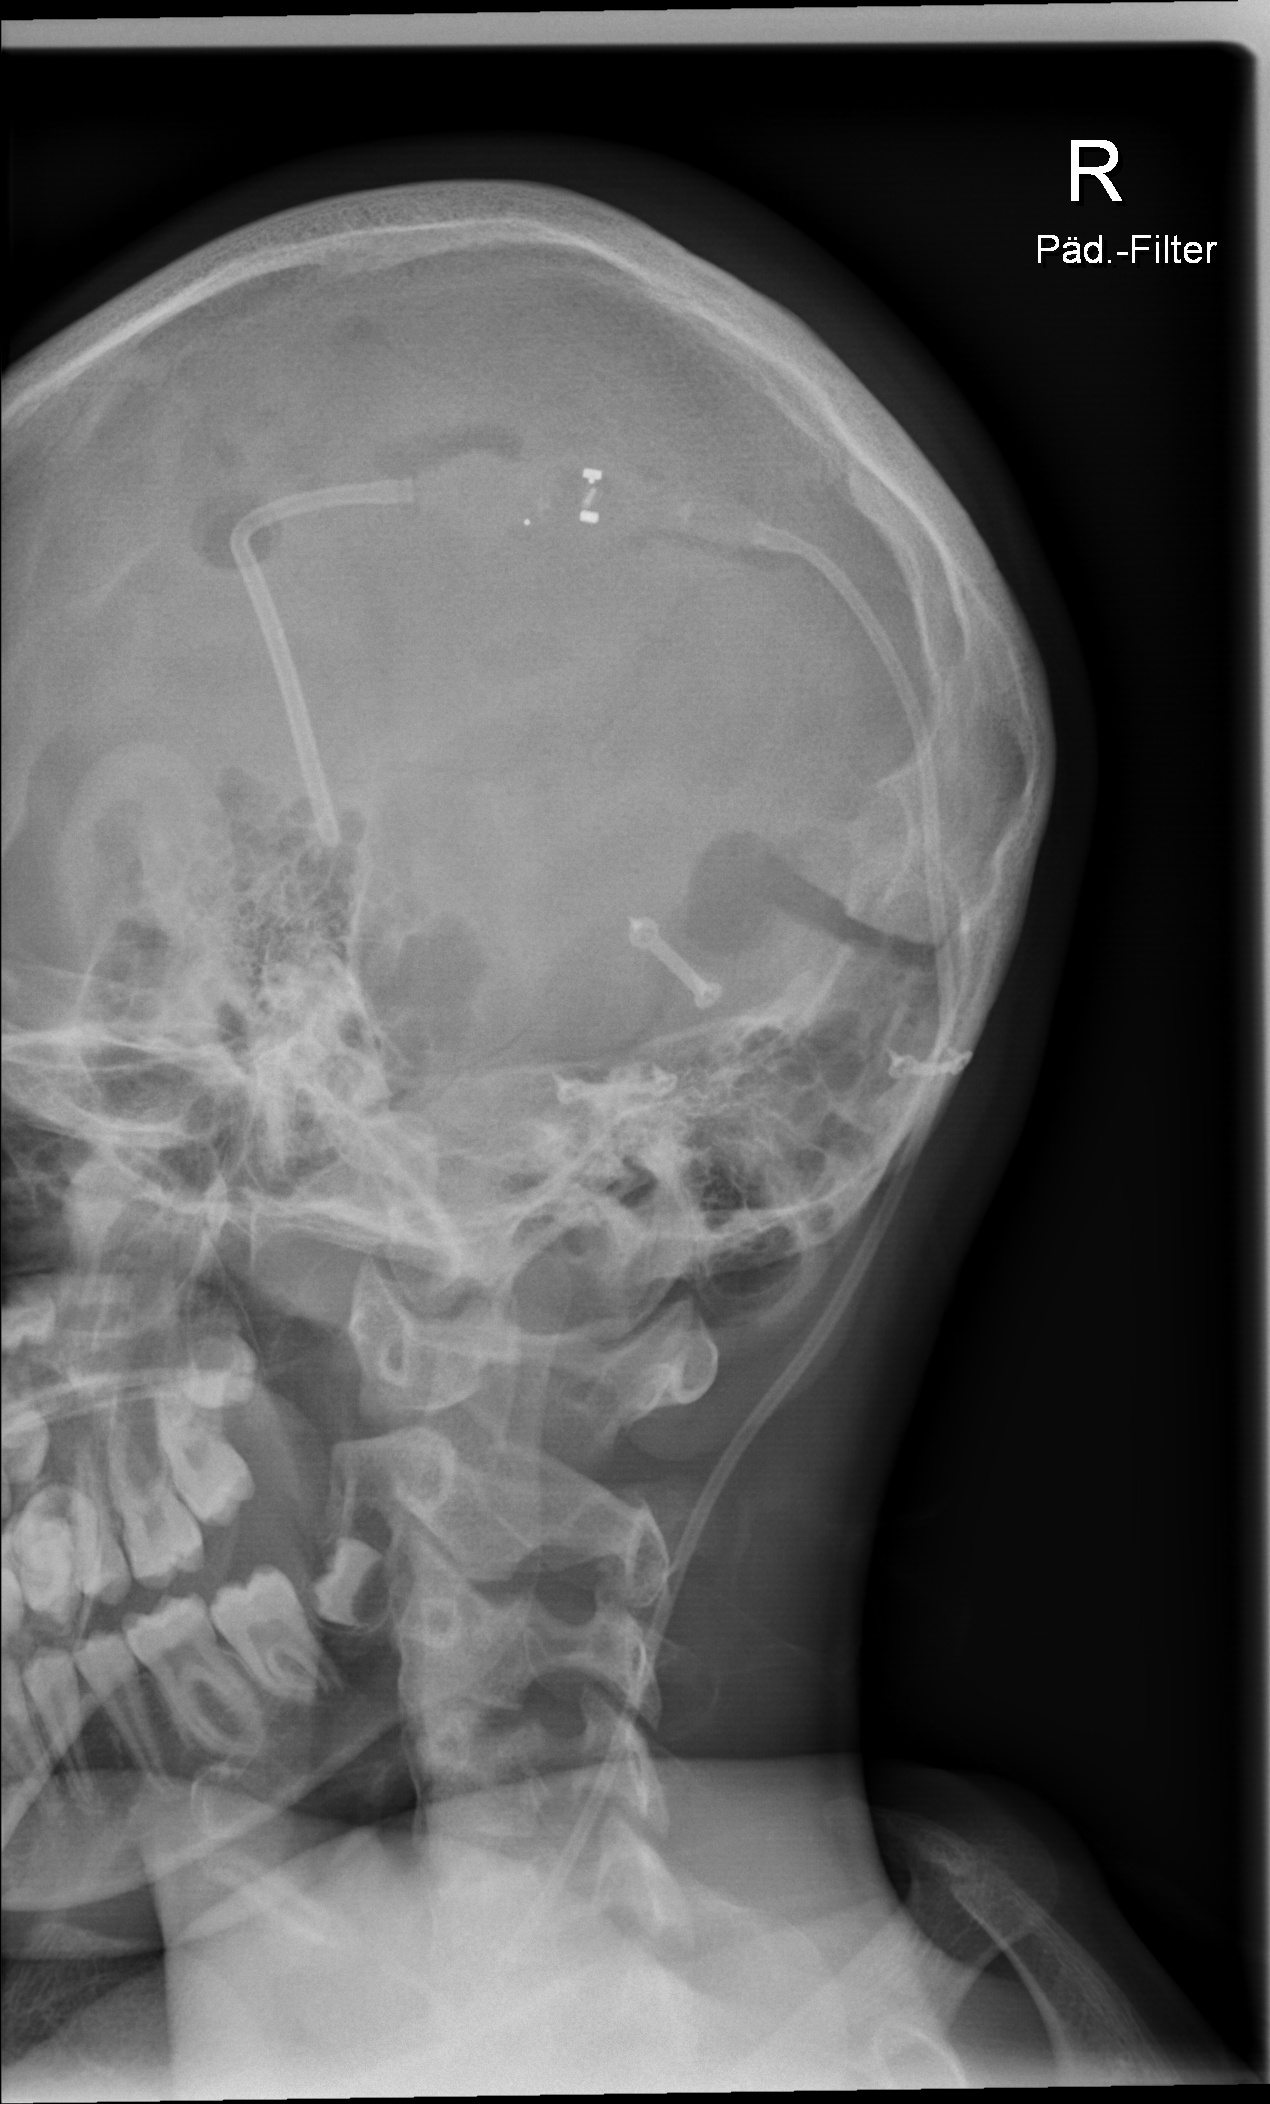Codman Certas: (513, 452, 621, 558)
